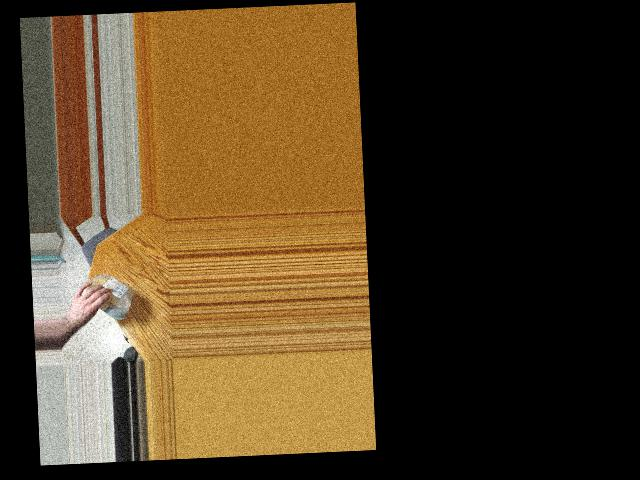cheese: (77, 270, 134, 318)
